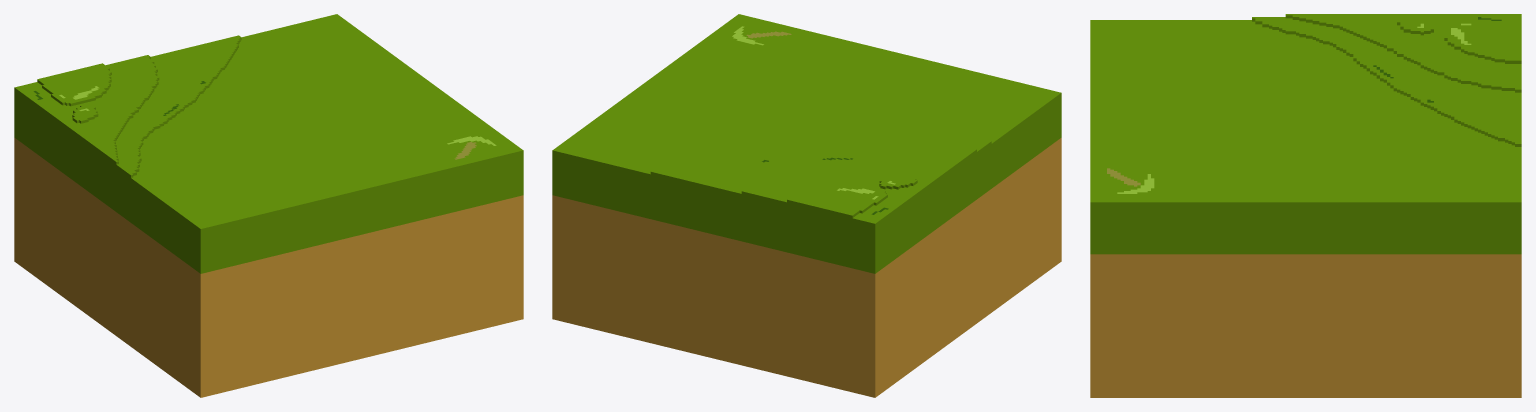
3 views of the same model, side by side, from view 1: azimuth 30°, elevation 25°; view 2: azimuth 150°, elevation 25°; view 3: azimuth 270°, elevation 25° (orthographic). The views are drawn at different scales.
Parts seen in each view (by area): view 1: 12A; view 2: 12A; view 3: 12A.
Boxes of the visible parts, x1=… form: 12A: x1=14, y1=14, x2=523, y2=397; 12A: x1=552, y1=14, x2=1061, y2=397; 12A: x1=1090, y1=14, x2=1521, y2=397.
Size of the model in its own units: 12.8 by 6.7 by 12.8.
Materials: 1 (1 with a texture image).
